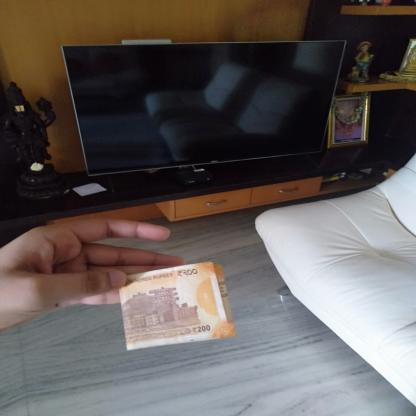New200Back: (121, 268, 221, 346)
